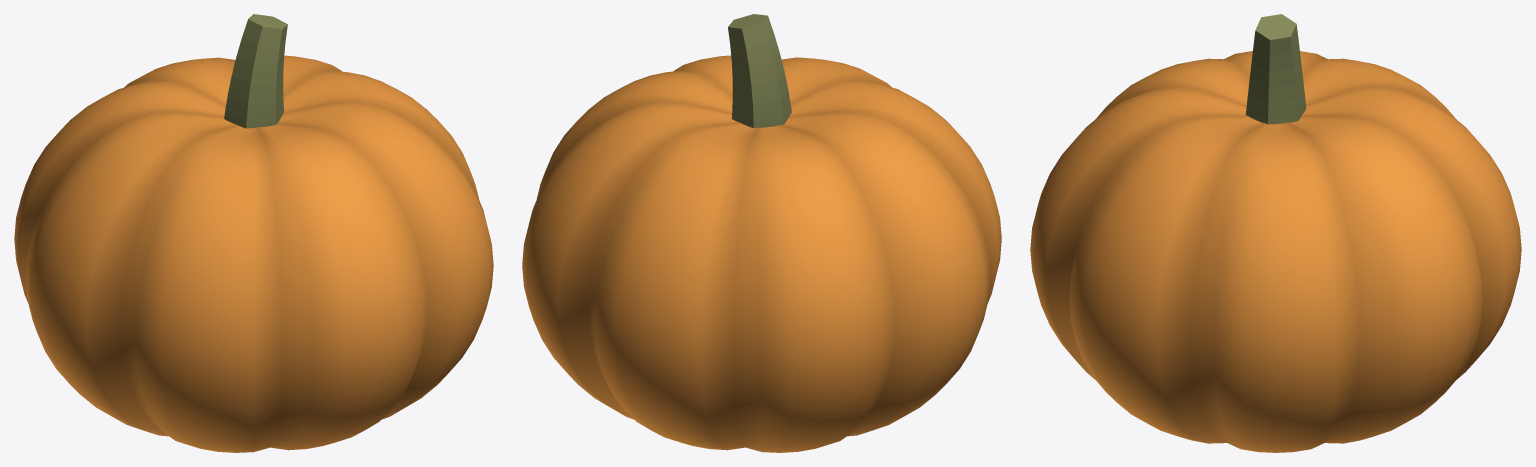
File: pumpkin.glb
3 renders of one model, left to right at view 1: azimuth 30°, elevation 25°; view 2: azimuth 150°, elevation 25°; view 3: azimuth 270°, elevation 25°, orthographic.
Parts seen in each view (by area): view 1: Pumpkin, Pumpkin_Stem; view 2: Pumpkin, Pumpkin_Stem; view 3: Pumpkin, Pumpkin_Stem.
Boxes of the visible parts, <box> form: Pumpkin: <box>14,55,493,452</box>; Pumpkin_Stem: <box>224,14,287,128</box>; Pumpkin: <box>522,55,1001,452</box>; Pumpkin_Stem: <box>728,14,791,127</box>; Pumpkin: <box>1030,51,1521,452</box>; Pumpkin_Stem: <box>1245,14,1306,124</box>.
Bounding box in the file's own units: 0.18 × 0.1585 × 0.18.
